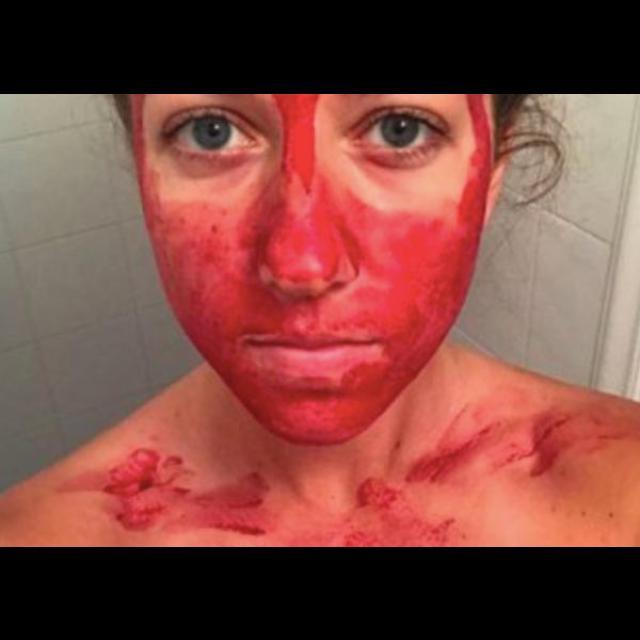blood: (132, 93, 507, 444), (298, 385, 640, 546), (99, 448, 290, 545)
